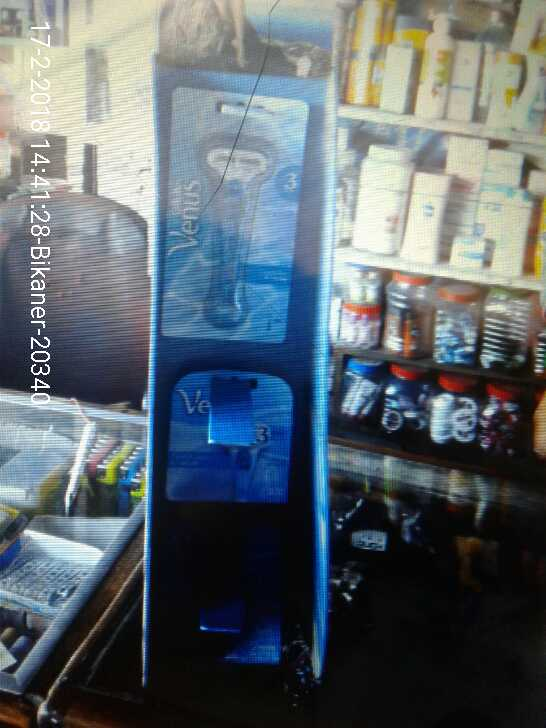venus: (162, 91, 300, 355), (160, 375, 295, 515)
